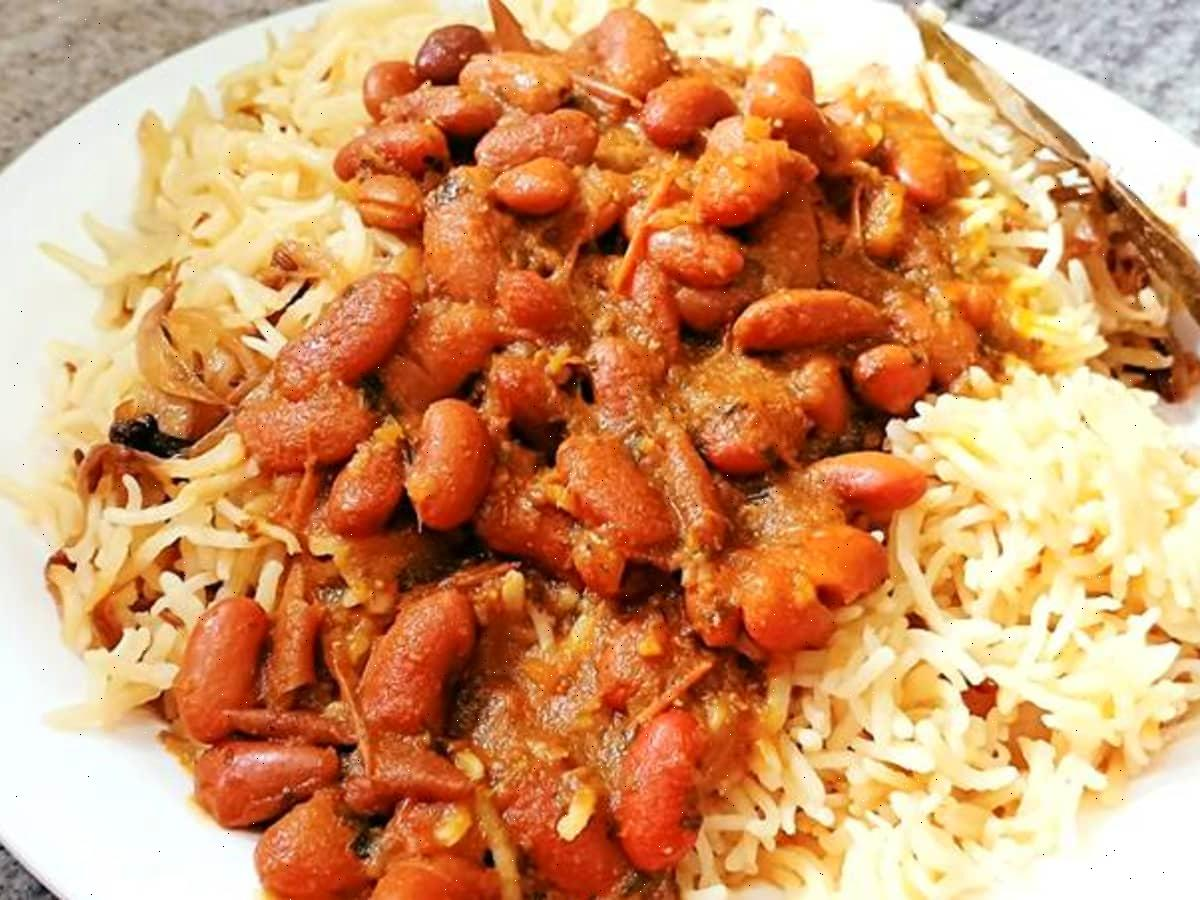rajma: (320, 75, 845, 898)
rice: (898, 395, 1198, 865)
